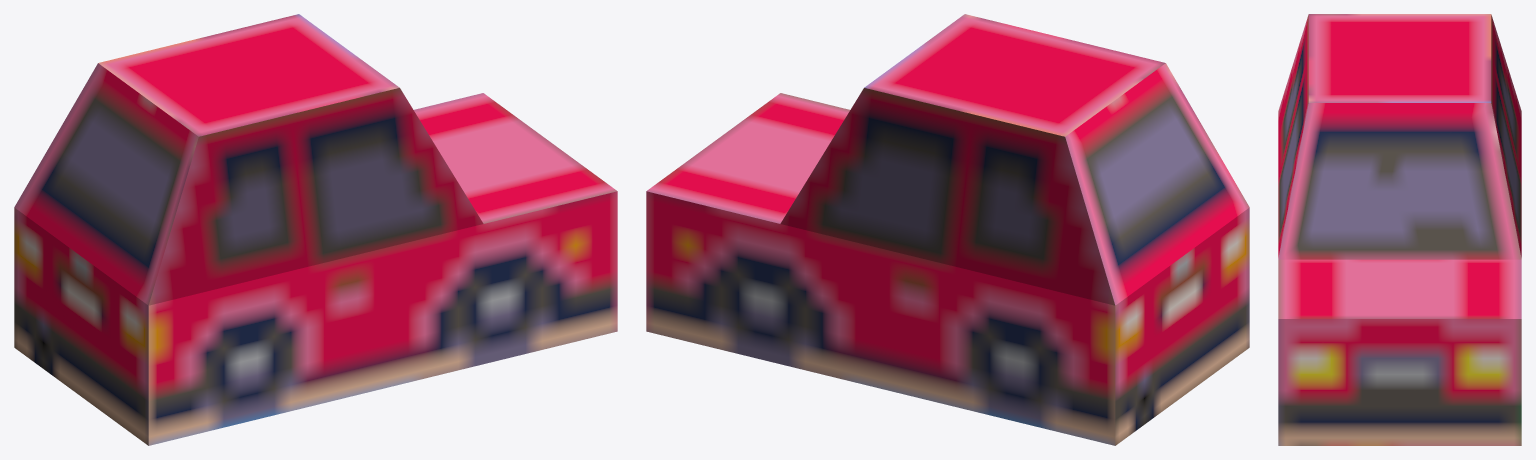
File: box_car.dae
The picture shows the model from 3 angles, left to right: view 1: azimuth 30°, elevation 25°; view 2: azimuth 150°, elevation 25°; view 3: azimuth 270°, elevation 25°; orthographic projection. The views are drawn at different scales.
Parts seen in each view (by area): view 1: redcar; view 2: redcar; view 3: redcar.
Boxes of the visible parts, x1=… form: redcar: x1=14, y1=14, x2=617, y2=445; redcar: x1=646, y1=14, x2=1249, y2=445; redcar: x1=1278, y1=14, x2=1521, y2=445.
Size of the model in its own units: 0.2009 by 0.0997 by 0.1148.
Materials: 1 (1 with a texture image).
